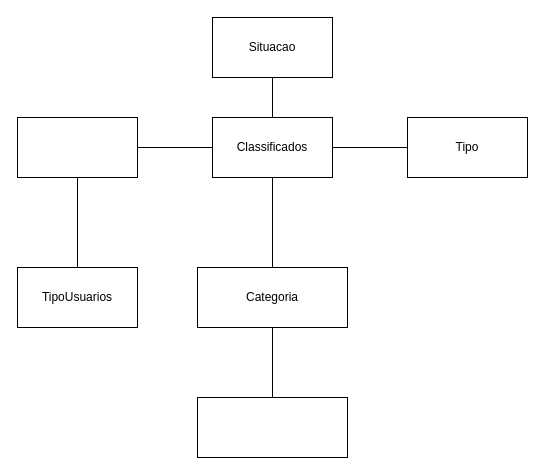
The diagram is 545 pixels wide and 475 high, and some of its shapes have lost their labels. The shapes that lost their labels are listed below. From the top down, each one's centre as x and y in pixels, then its label:
At point (77, 147): "Usuarios".
At point (272, 427): "Nicho".
